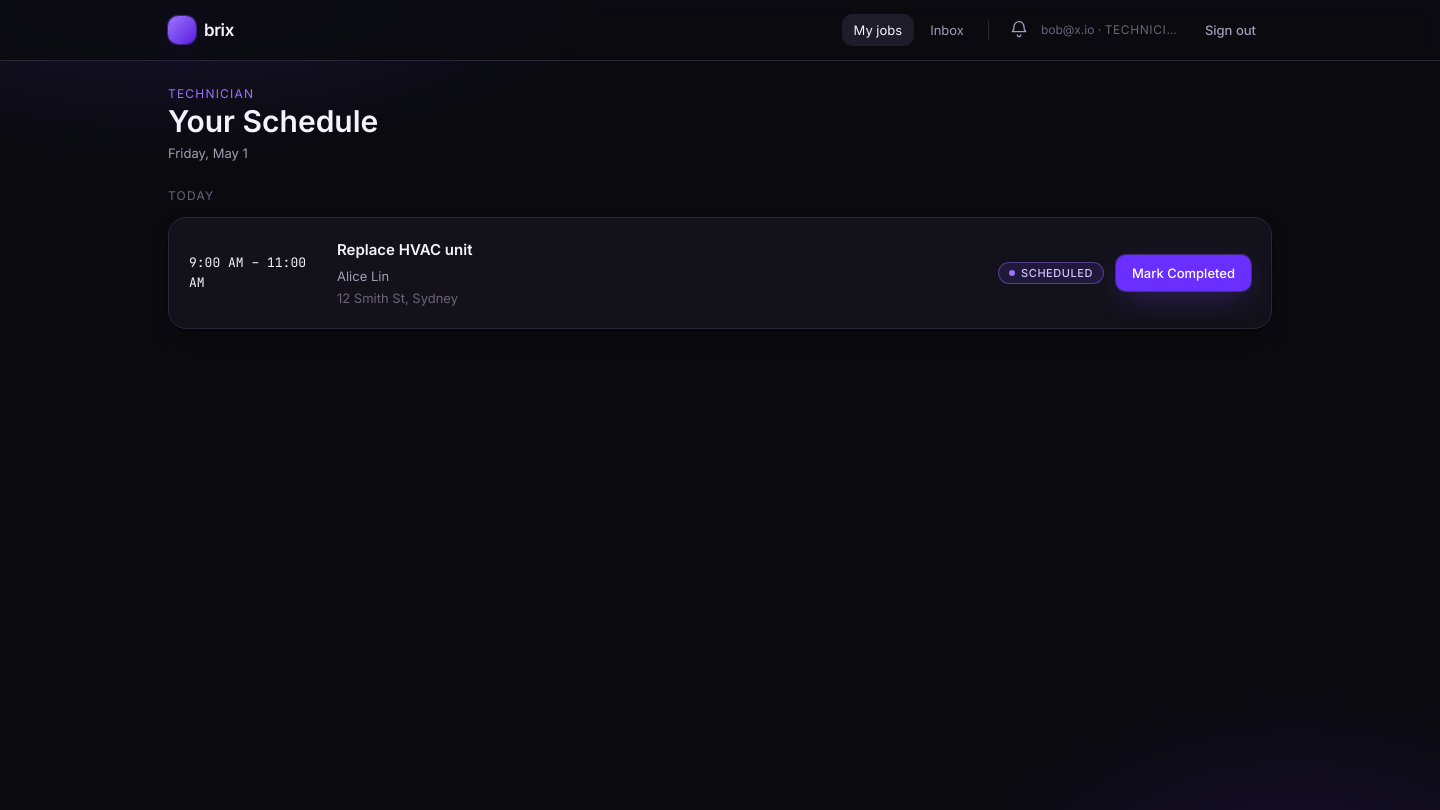
Technician page › marks a job completed optimistically and shows a toast
Check: the text "Replace HVAC unit" is shown, box 337,240 -> 472,259
Check: the text "Scheduled" is shown, box 998,262 -> 1104,284
Click the button "Mark Completed" at [1183, 273], box 1116,255 -> 1251,291
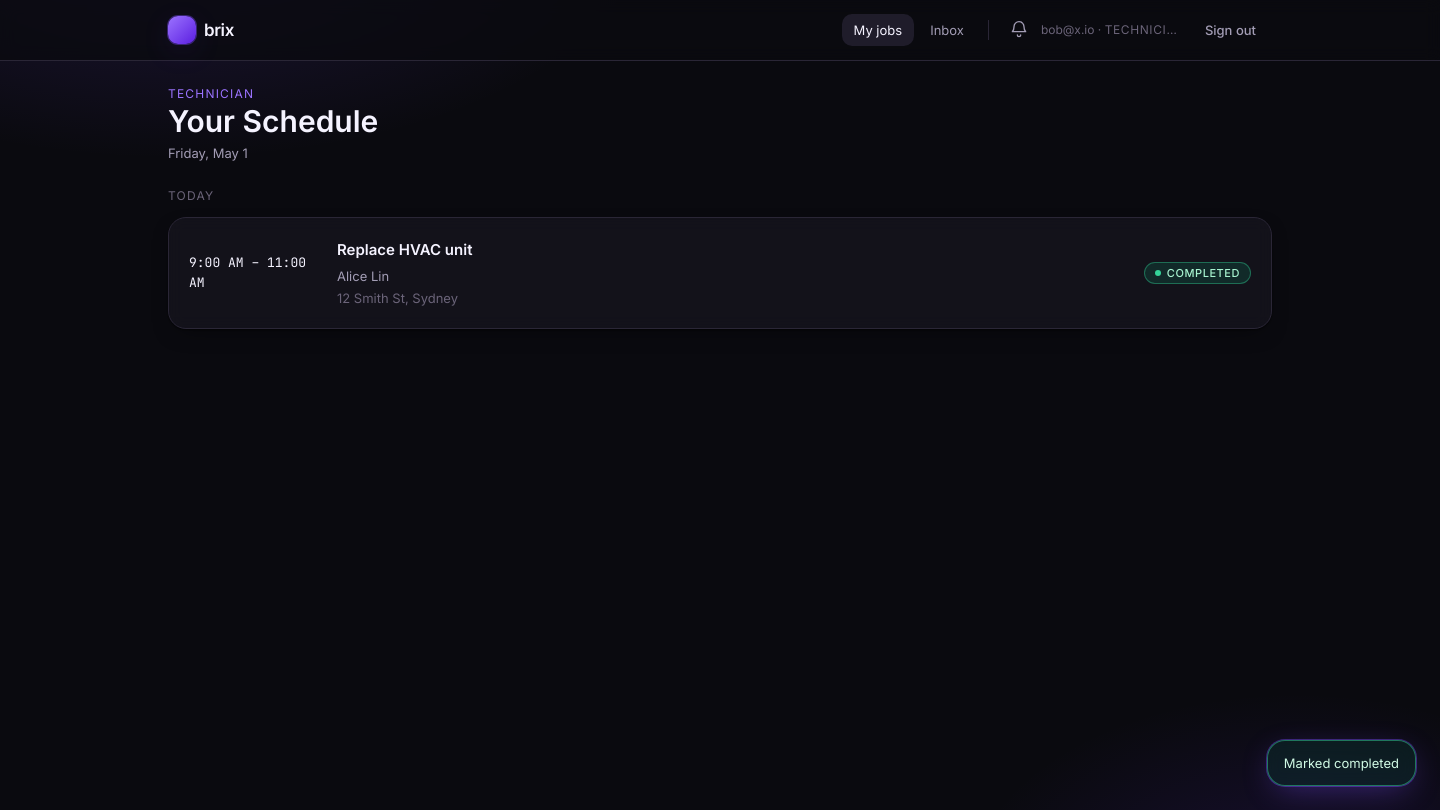
Check: the text "Completed" is shown, box 1144,262 -> 1251,284
Check: the button "Mark Completed" is gone
Check: the message reads "Marked completed", box 1284,755 -> 1399,771
